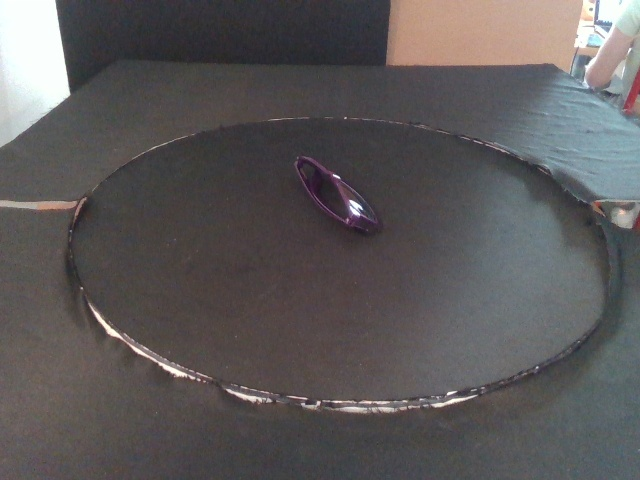glasses: (294, 152, 380, 235)
